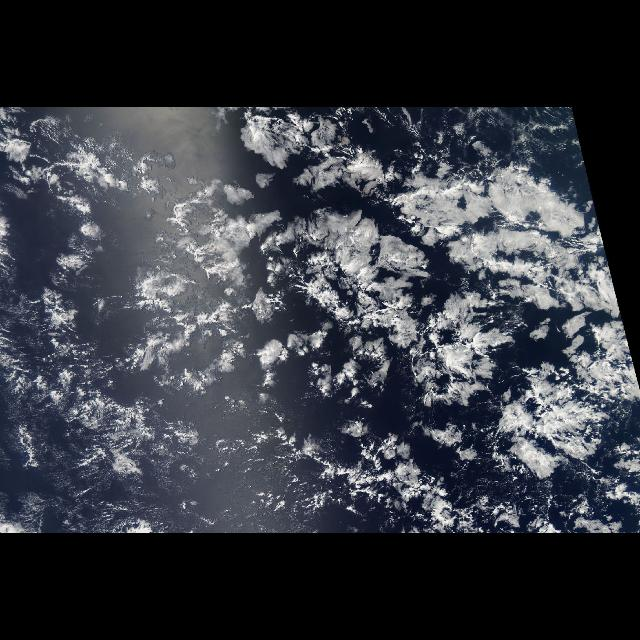Flower: (108, 155, 640, 471)
